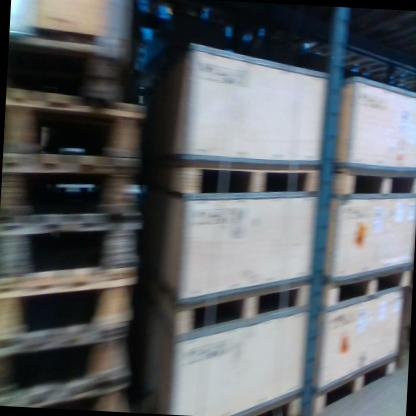pallet: (144, 264, 312, 349), (0, 260, 137, 364), (0, 150, 150, 244), (0, 315, 132, 412), (3, 89, 150, 171), (0, 212, 144, 294), (159, 148, 323, 209), (6, 29, 131, 105), (307, 347, 398, 416), (319, 254, 413, 318), (28, 373, 132, 412), (331, 163, 416, 204), (221, 380, 303, 416)
